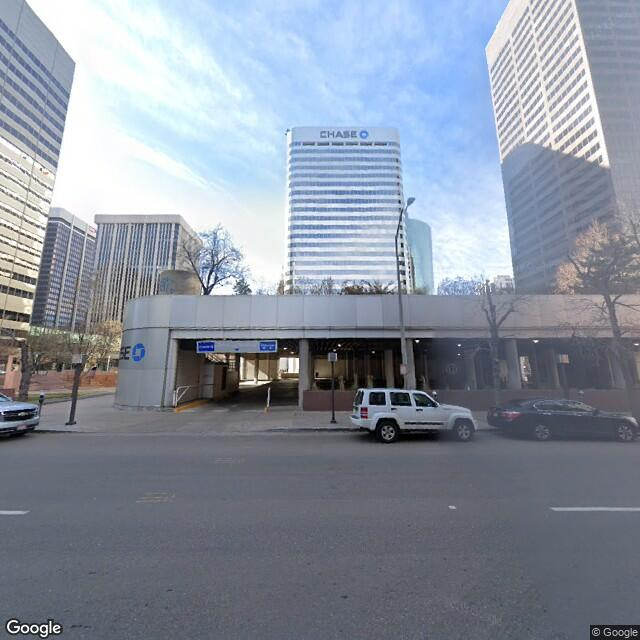lamp: (389, 193, 423, 389)
